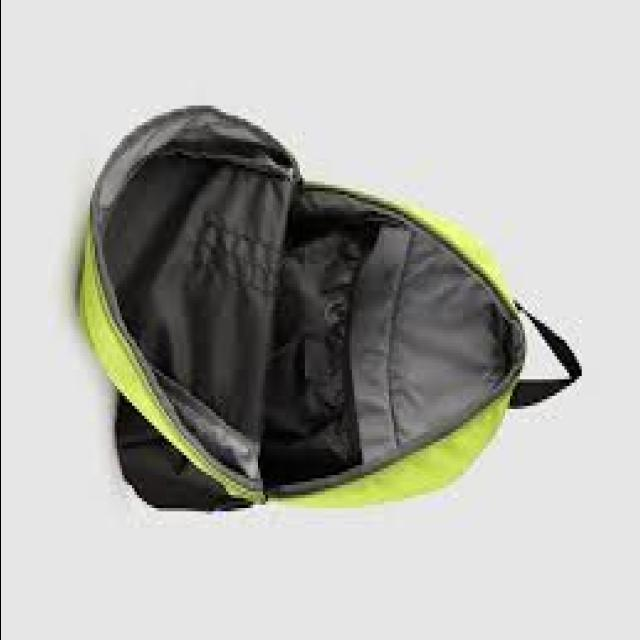backpack: (80, 104, 584, 516)
